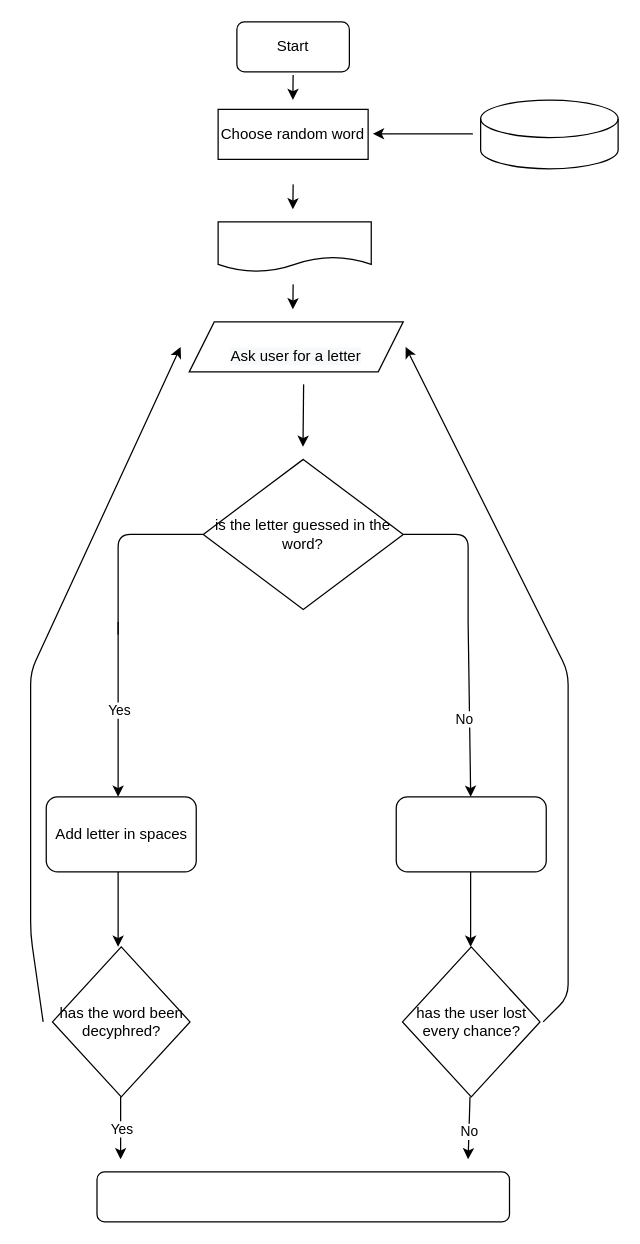
Image size: 640x1244. Some labels were removed from this diagram. The shapes that lost their labels are listed below. From the top down, each one's box as (x1, y1, x2, y2) in pixels, then its label:
(479, 99, 618, 169): List with words
(217, 221, 371, 272): Display blank spaces
(395, 796, 546, 872): Lose a life (draw hangman part)
(96, 1171, 510, 1222): Game Over
